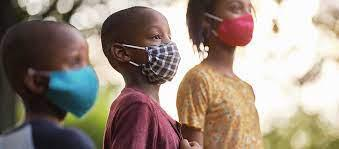OK: (49, 51, 99, 113), (137, 24, 179, 80), (219, 4, 257, 47)
